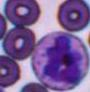N: (32, 30, 90, 91)
